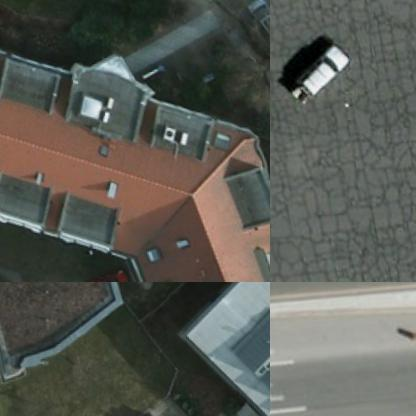car: (286, 34, 356, 98), (74, 258, 133, 281), (247, 0, 269, 44)
